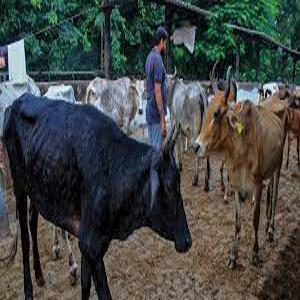lumpy skin diesease: (0, 91, 192, 299), (192, 79, 288, 269), (84, 75, 139, 136), (283, 92, 299, 172)
